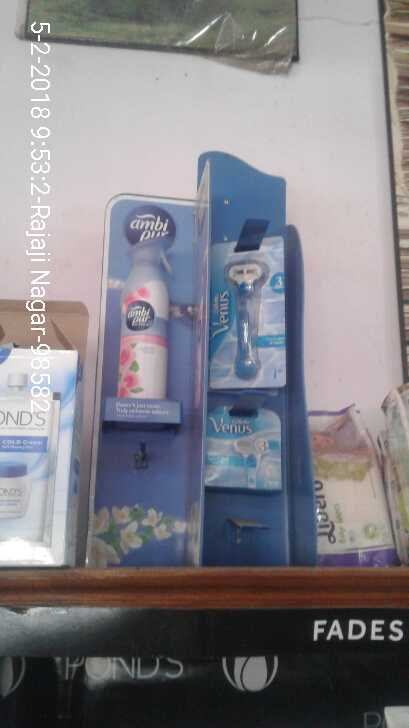beauty: (207, 241, 289, 391), (206, 410, 285, 494)
home: (117, 232, 174, 402)
